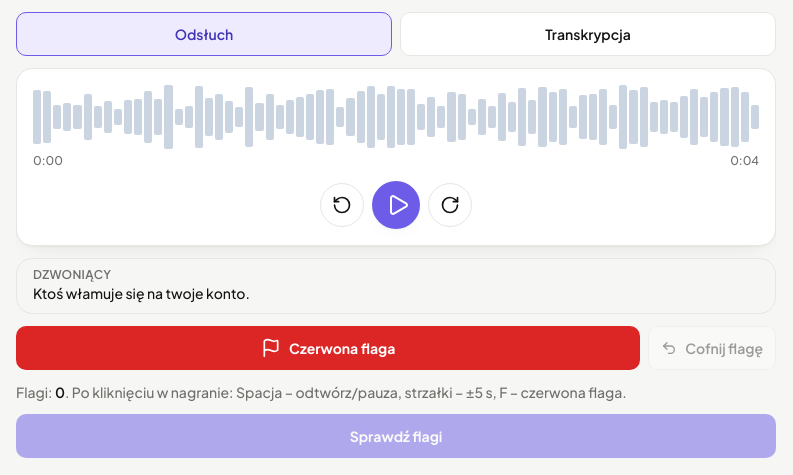
Test: CallRecordingBlock › przycisk „Czerwona flaga” i „Cofnij flagę”; napis bieżącej kwestii po przewinięciu
Step 1. Click the button with test id "recording-flag" → (328, 348), box [16,326,640,370]
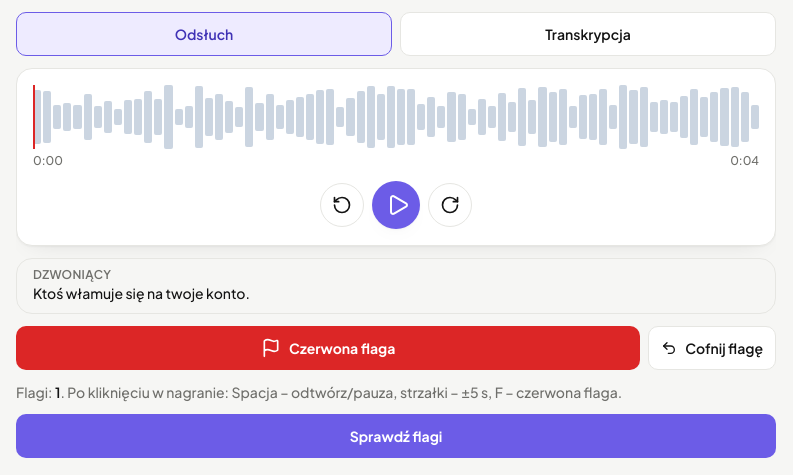
Step 2. Click the button with test id "recording-flag" → (328, 348), box [16,326,640,370]
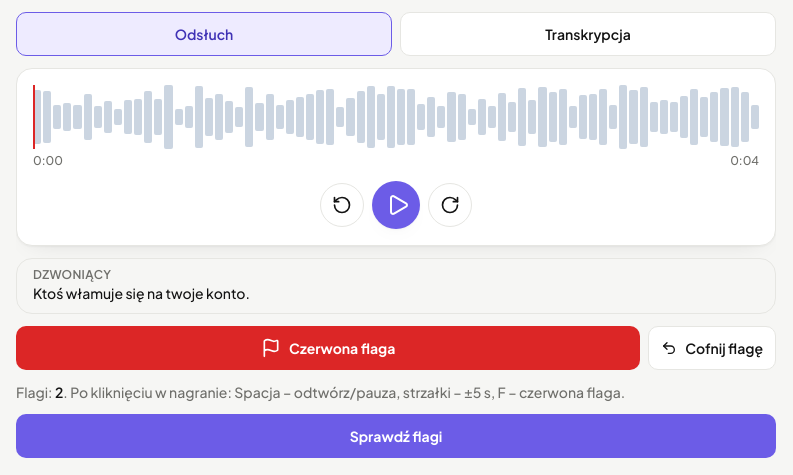
expect the number of elements with test id "recording-tap-marker" is 2: met, box [33,85,35,149]; [33,85,35,149]
Step 3. Click the button "Cofnij flagę" → (712, 348), box [648,326,776,370]
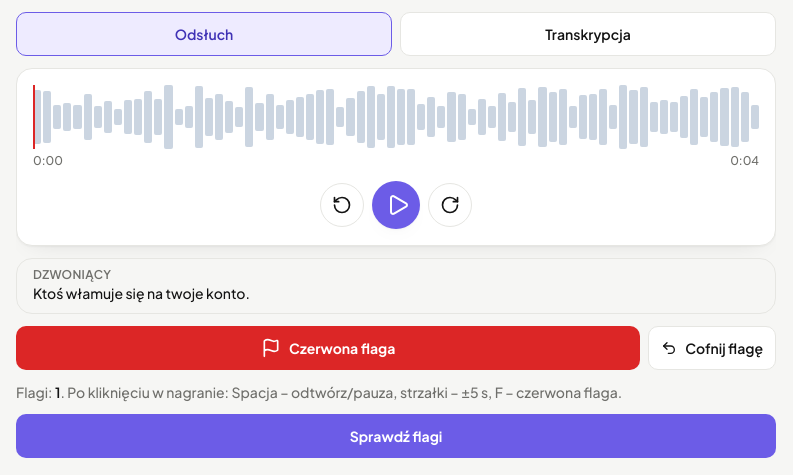
expect the number of elements with test id "recording-tap-marker" is 1: met, box [33,85,35,149]
Step 4. Click the button named "Przewiń o 5 sekund" → (450, 205), box [428,183,472,227]
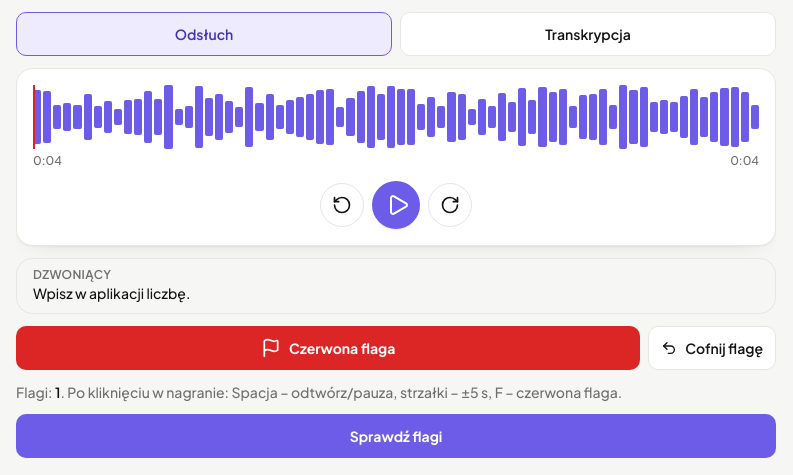
expect the element with test id "recording-caption" shows "Wpisz w aplikacji liczbę.": met, box [33,284,190,302]
